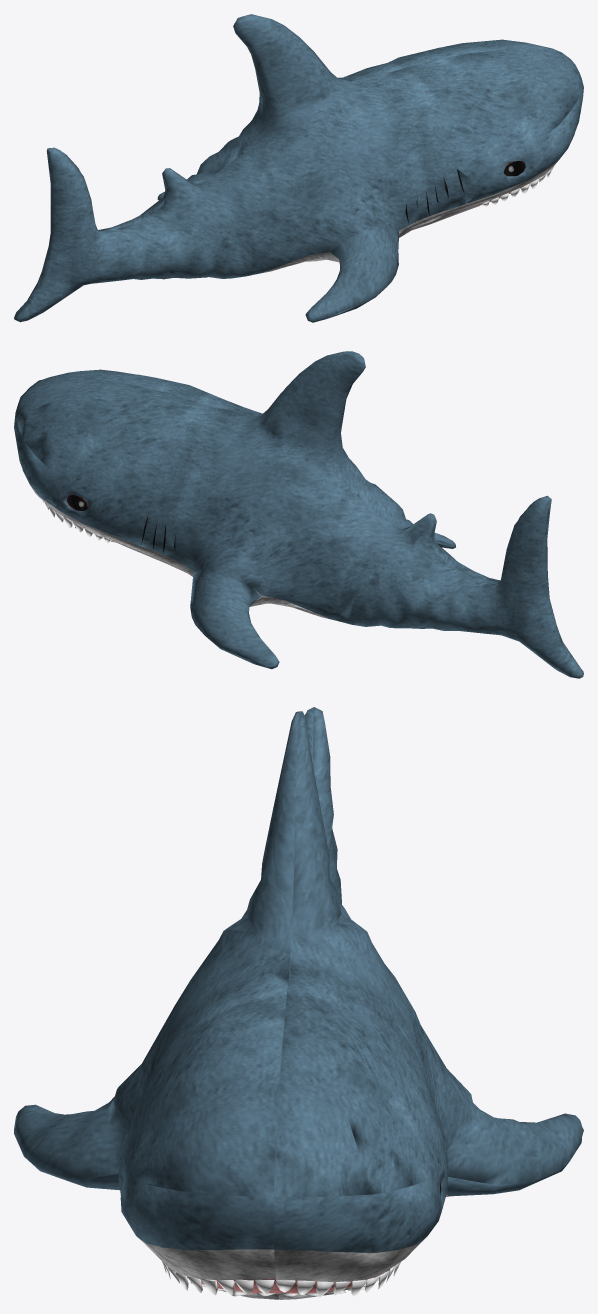
The model's file is plushblahaj.fbx.
3 views of the same model, one above another, from view 1: azimuth 30°, elevation 25°; view 2: azimuth 150°, elevation 25°; view 3: azimuth 270°, elevation 25° (orthographic). The views are drawn at different scales.
Parts seen in each view (by area): view 1: ikea_Blahaj.001; view 2: ikea_Blahaj.001; view 3: ikea_Blahaj.001.
Part boxes in pixels (x1,y1,x2,y2): ikea_Blahaj.001: (14,14,583,322); ikea_Blahaj.001: (14,351,583,678); ikea_Blahaj.001: (14,707,583,1299).
Bounding box in the file's own units: 0.7802 × 0.3468 × 0.409.
